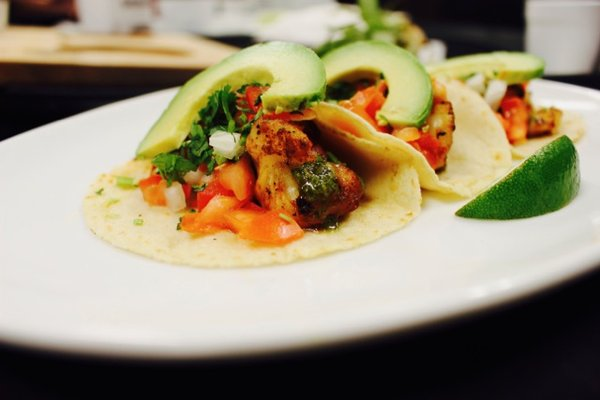curry: (5, 26, 598, 382)
